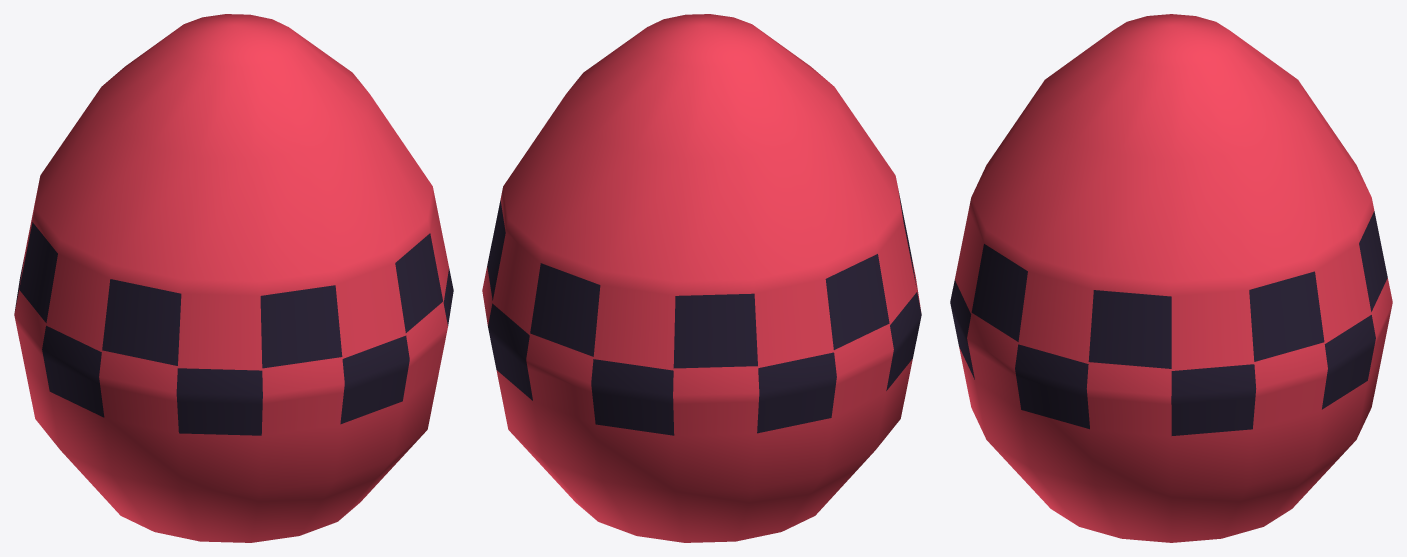
Rendered from MythicEgg.fbx.
3 views of the same model, side by side, from view 1: azimuth 30°, elevation 25°; view 2: azimuth 150°, elevation 25°; view 3: azimuth 270°, elevation 25° (orthographic).
Visible parts, largest first — view 1: MythicEgg; view 2: MythicEgg; view 3: MythicEgg.
Boxes of the visible parts, bbox=[...] form: MythicEgg: bbox=[14, 14, 453, 542]; MythicEgg: bbox=[482, 14, 921, 542]; MythicEgg: bbox=[950, 14, 1392, 542].
Size of the model in its own units: 2.1 by 2.5 by 2.1.
Materials: 1 (1 with a texture image).
